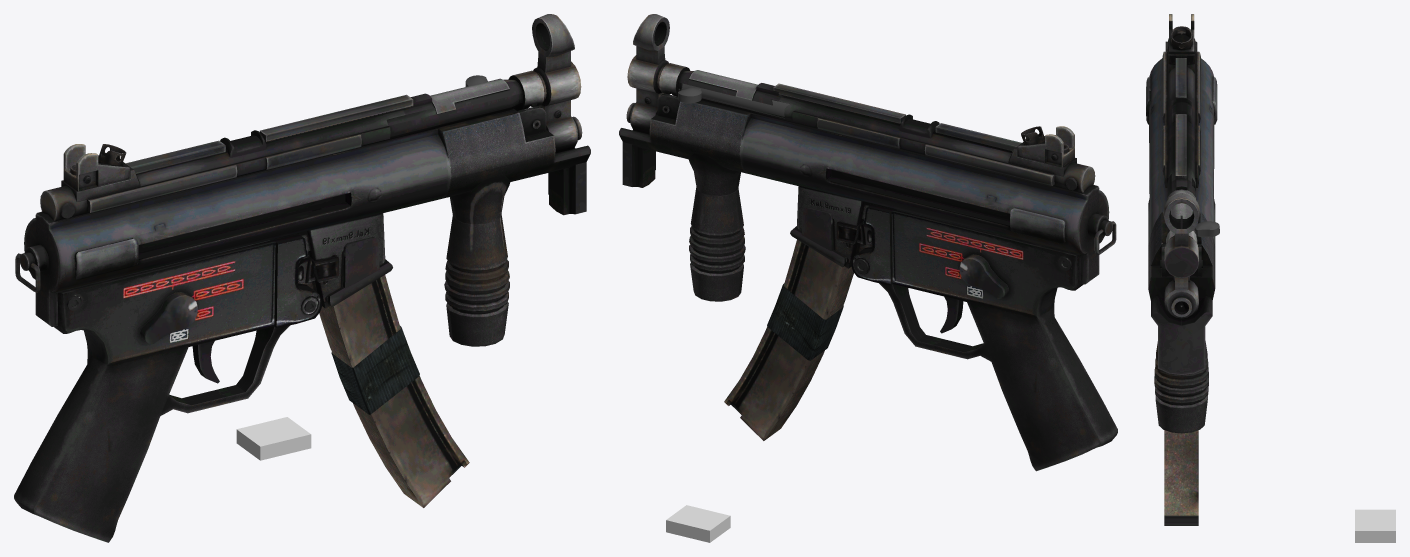
File: cubes.glb
3 views of the same model, side by side, from view 1: azimuth 30°, elevation 25°; view 2: azimuth 150°, elevation 25°; view 3: azimuth 270°, elevation 25° (orthographic). The views are drawn at different scales.
Visible parts, largest first — view 1: UpperAndLower, Magazine, MagazineTape, RearSightHousing, StationaryCube; view 2: UpperAndLower, Magazine, MagazineTape, RearSightHousing, StationaryCube, ChargingHandle; view 3: UpperAndLower, Magazine, StationaryCube, RearSightHousing, ChargingHandle.
Boxes of the visible parts, box(x1,y1,x2,y2) form: UpperAndLower: box(14, 14, 590, 542); Magazine: box(319, 275, 469, 507); MagazineTape: box(331, 326, 419, 414); RearSightHousing: box(61, 144, 140, 212); StationaryCube: box(236, 417, 311, 460); UpperAndLower: box(619, 14, 1117, 471); Magazine: box(724, 239, 853, 440); MagazineTape: box(767, 284, 843, 360); RearSightHousing: box(1008, 126, 1076, 185); StationaryCube: box(666, 505, 730, 542); ChargingHandle: box(677, 83, 789, 116); UpperAndLower: box(1146, 26, 1217, 433); Magazine: box(1164, 430, 1198, 525); StationaryCube: box(1355, 509, 1395, 542); RearSightHousing: box(1168, 14, 1194, 73); ChargingHandle: box(1194, 221, 1219, 237).
Size of what is drawn, in the model's own units: 82.91 by 67.28 by 37.52.
3 materials, 2 textured.
